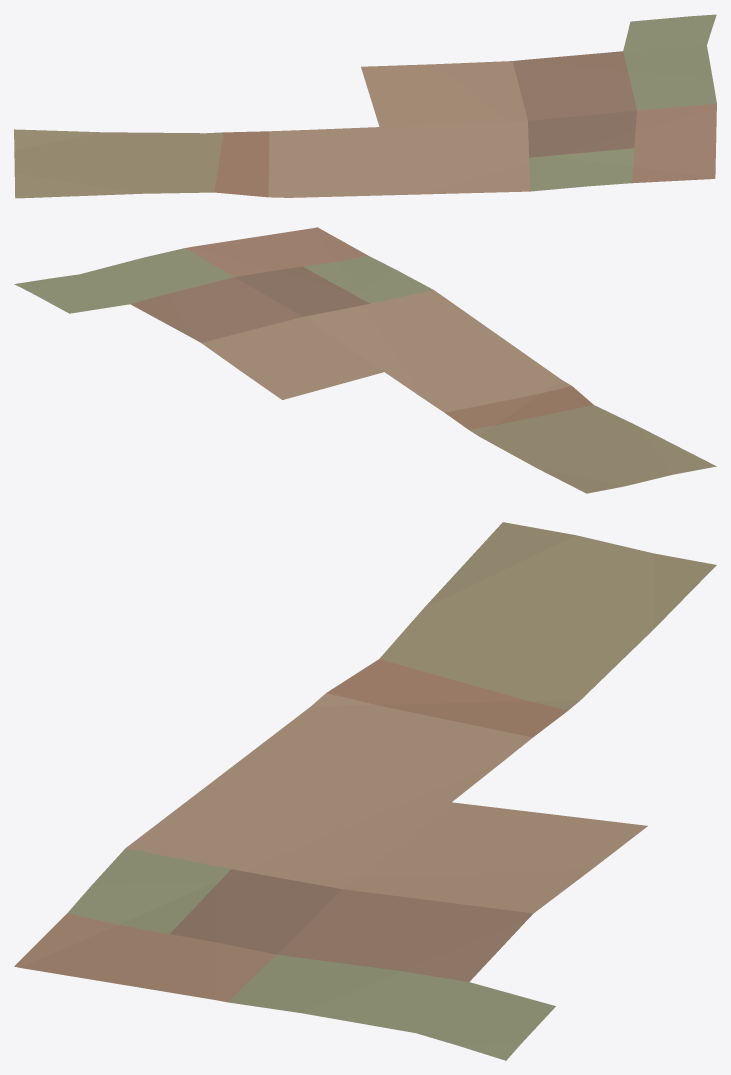
Rendered from farm_13_9_soil.glb.
3 views of the same model, one above another, from view 1: azimuth 30°, elevation 25°; view 2: azimuth 150°, elevation 25°; view 3: azimuth 270°, elevation 25° (orthographic). The views are drawn at different scales.
Parts seen in each view (by area): view 1: geometry_0; view 2: geometry_0; view 3: geometry_0.
Boxes of the visible parts, x1=… form: geometry_0: x1=14, y1=14, x2=716, y2=198; geometry_0: x1=14, y1=227, x2=716, y2=493; geometry_0: x1=14, y1=522, x2=716, y2=1060.
Bounding box in the file's own units: 241 × 6.72 × 128.
